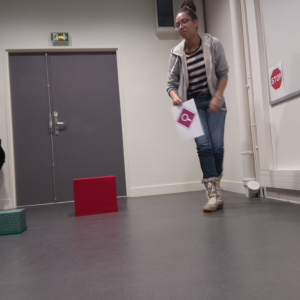search: (175, 107, 198, 129)
stop: (270, 69, 283, 89)
